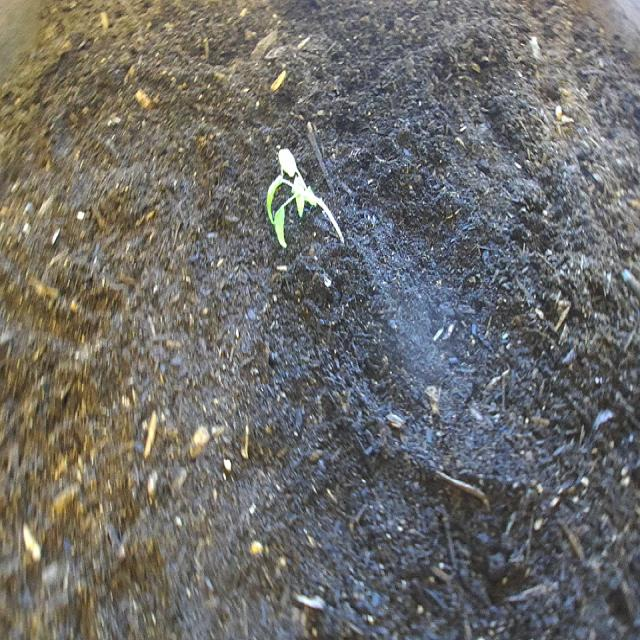Unhealthy: (255, 126, 358, 267)
